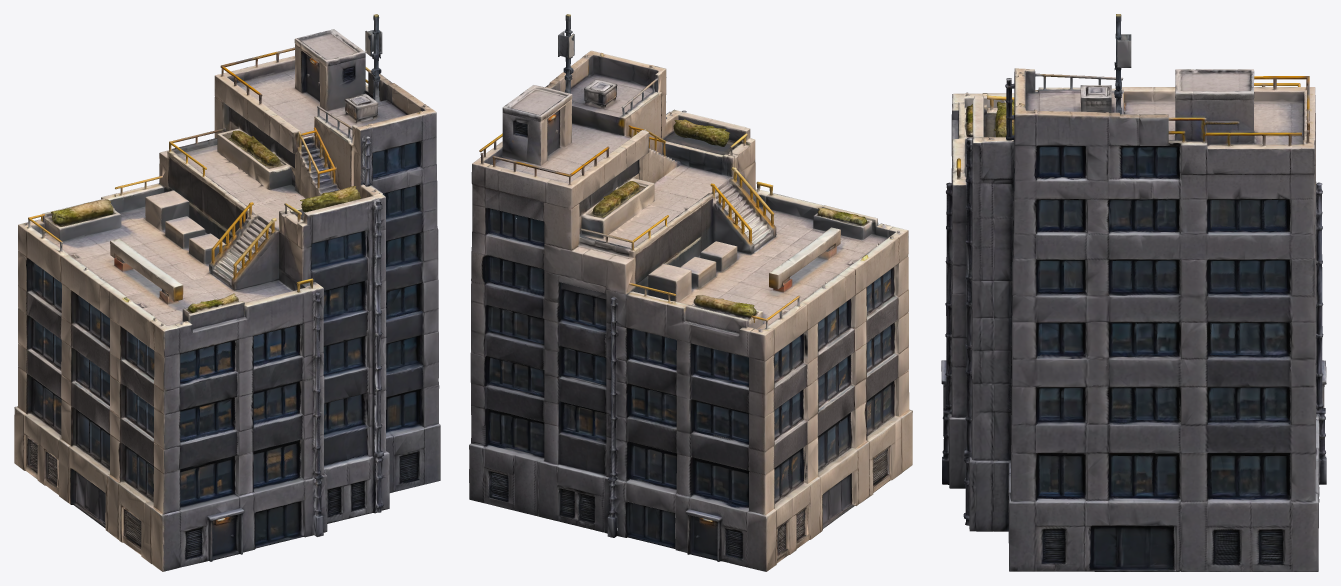
File: roof-07.glb
3 views of the same model, side by side, from view 1: azimuth 30°, elevation 25°; view 2: azimuth 150°, elevation 25°; view 3: azimuth 270°, elevation 25° (orthographic). The views are drawn at different scales.
Visible parts, largest first — view 1: tripo_node_2e9bb77c-a72d-4079-9158-a303aea5e0c2; view 2: tripo_node_2e9bb77c-a72d-4079-9158-a303aea5e0c2; view 3: tripo_node_2e9bb77c-a72d-4079-9158-a303aea5e0c2.
Boxes of the visible parts, box(x1,y1,x2,y2) form: tripo_node_2e9bb77c-a72d-4079-9158-a303aea5e0c2: box(14, 14, 440, 571); tripo_node_2e9bb77c-a72d-4079-9158-a303aea5e0c2: box(469, 14, 912, 571); tripo_node_2e9bb77c-a72d-4079-9158-a303aea5e0c2: box(941, 14, 1326, 571).
Bounding box in the file's own units: 0.7087 × 0.9804 × 0.6278.
Materials: 1 (1 with a texture image).
